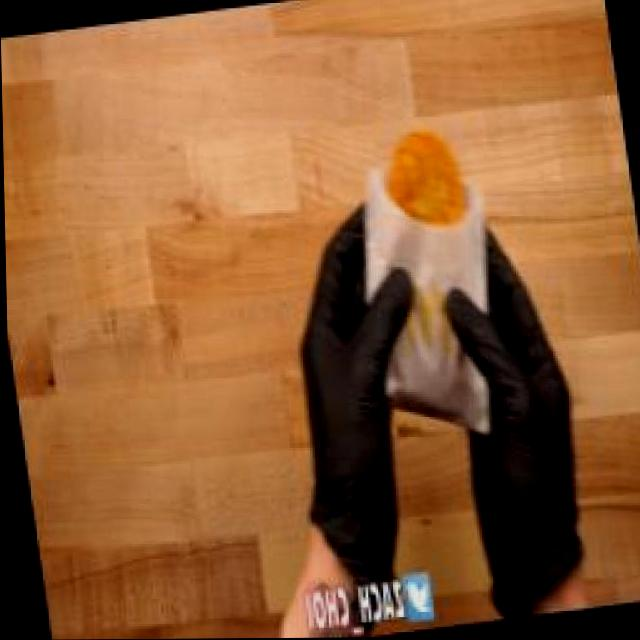Hashbrown: (360, 102, 482, 253)
